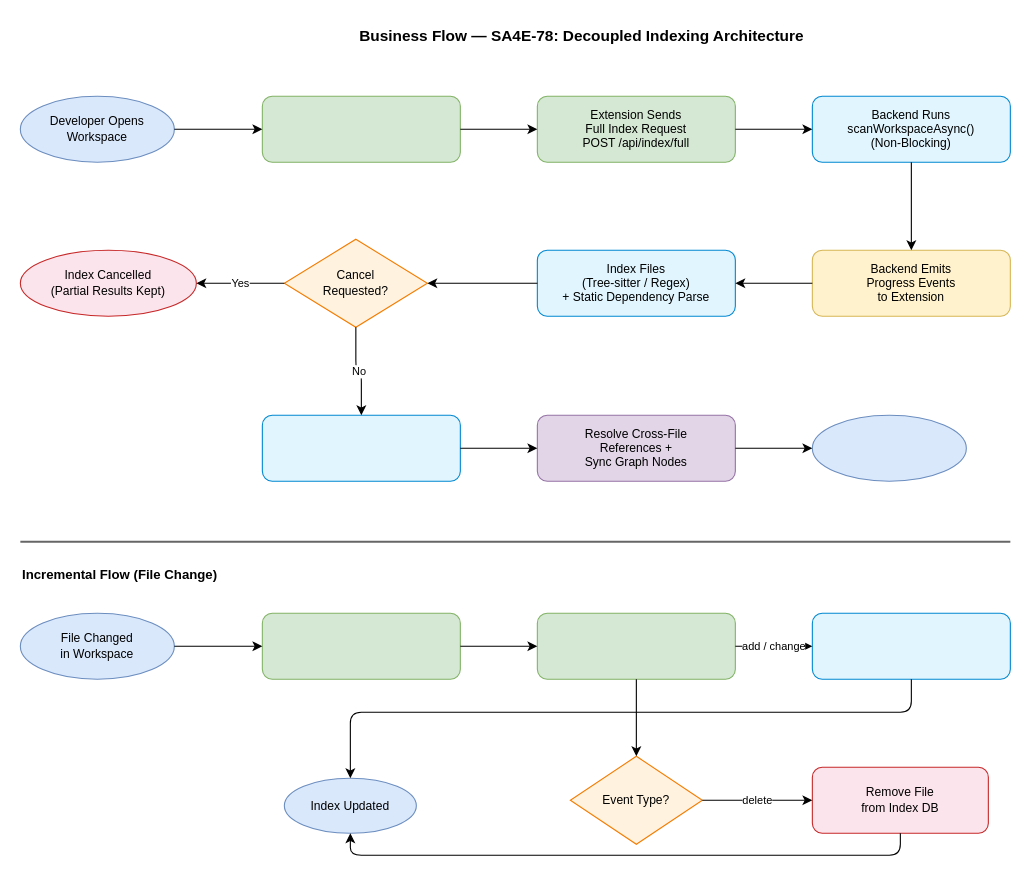
This 1030x883 diagram has some shape labels left out. The centre of each missing label's shape, as x and y in pixels:
Backend Indexes Single File (indexSingleFile): point 910,645
Commit Results to Database (Transactional Batch): point 360,447
Extension Activates FileSystemWatcher: point 360,128
Extension Detects Change Event (FileSystemWatcher): point 360,645
Extension Pushes Event via API POST /api/index/file-events: point 635,645
Full Index Complete (100%): point 888,447
